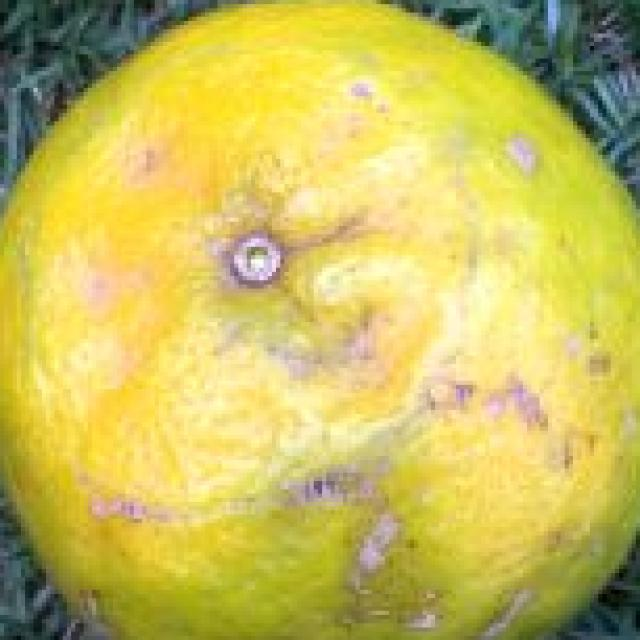Bad_Orange-0-1 day: (0, 0, 640, 640)
